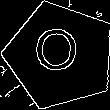O_S: (37, 29, 84, 82)
